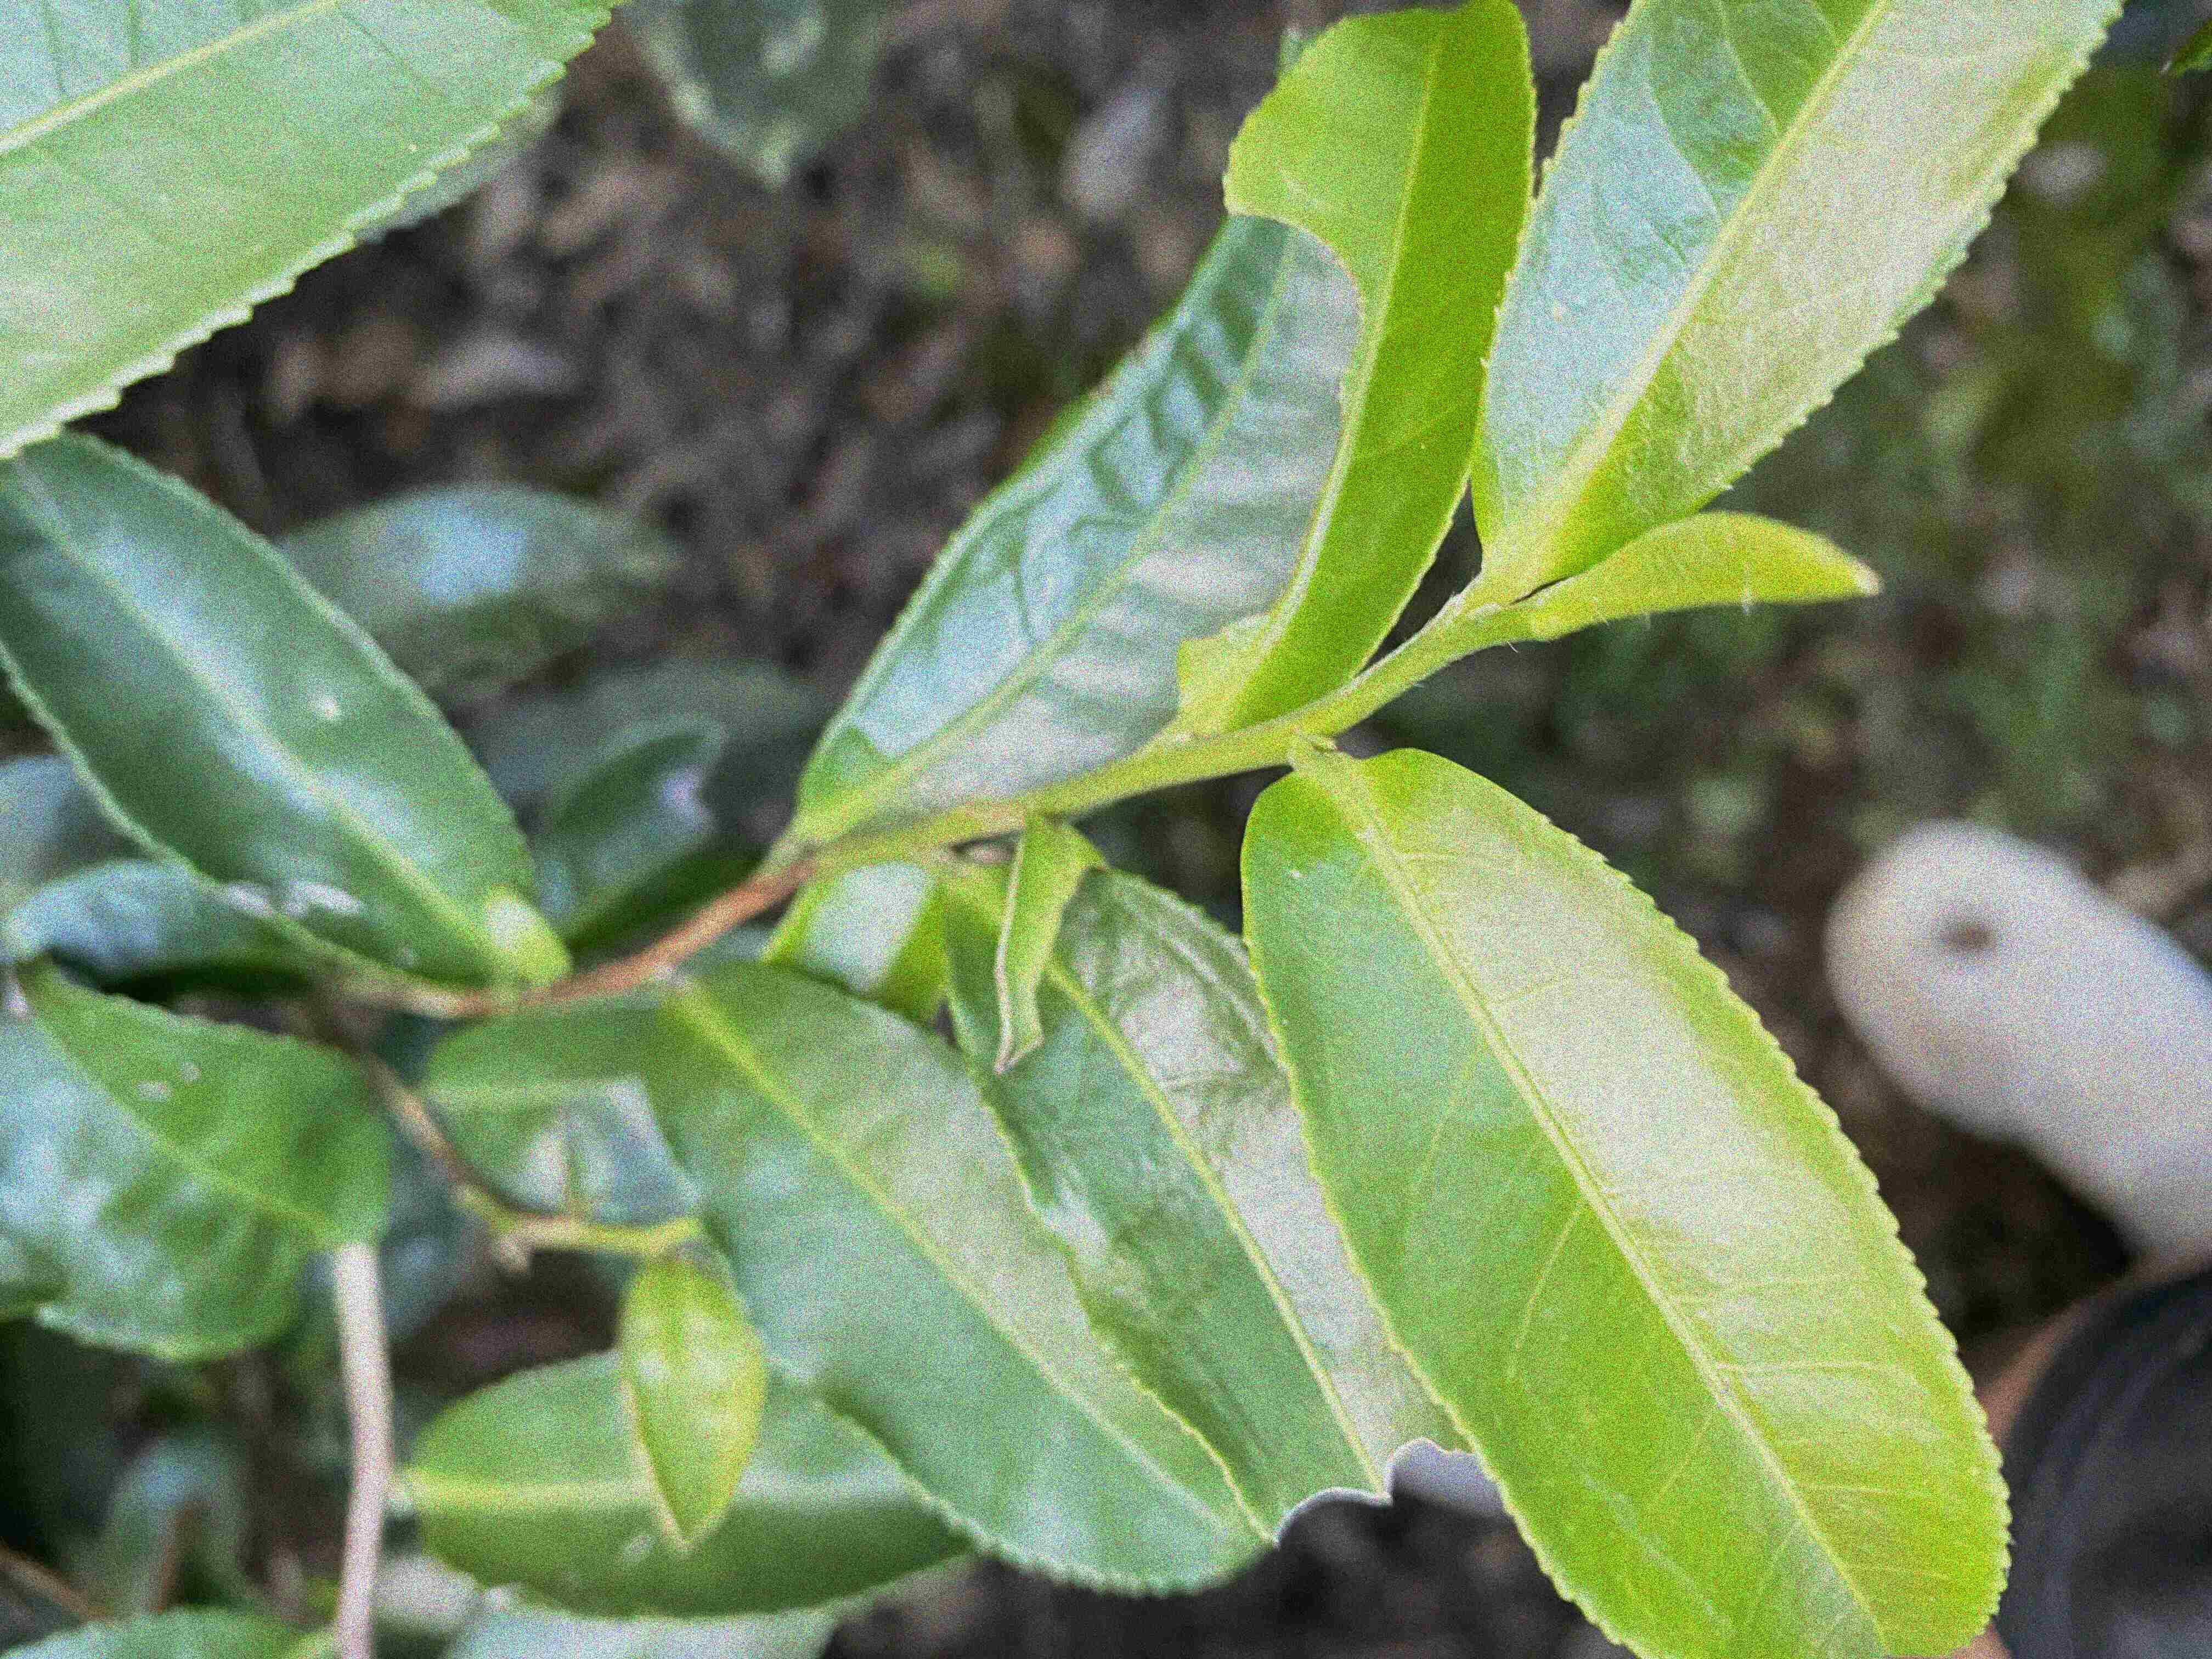chihuo_high: (1170, 2, 1540, 737)
chihuo_low: (935, 838, 1474, 1544)
healthy: (1240, 748, 2015, 1656), (1470, 2, 2127, 582)
